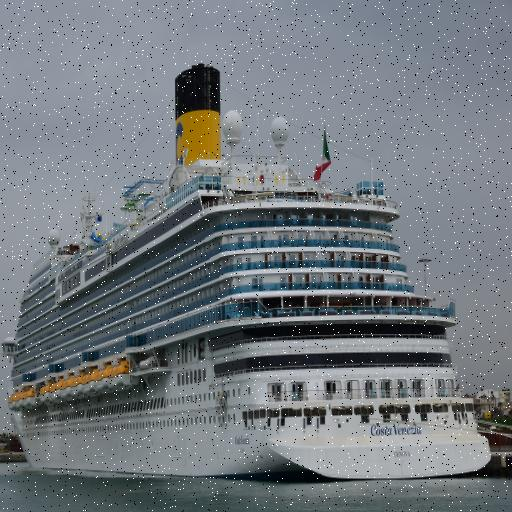cruises: (8, 57, 502, 495)
